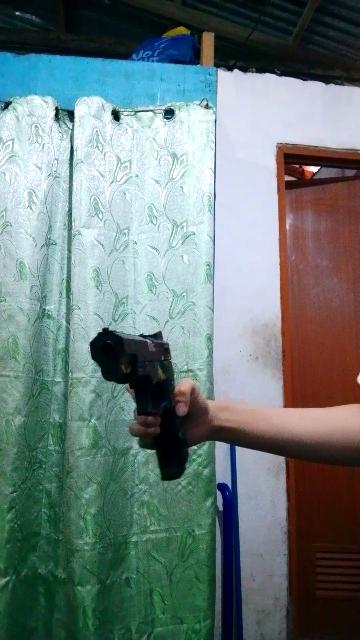pistol: (76, 312, 204, 494)
